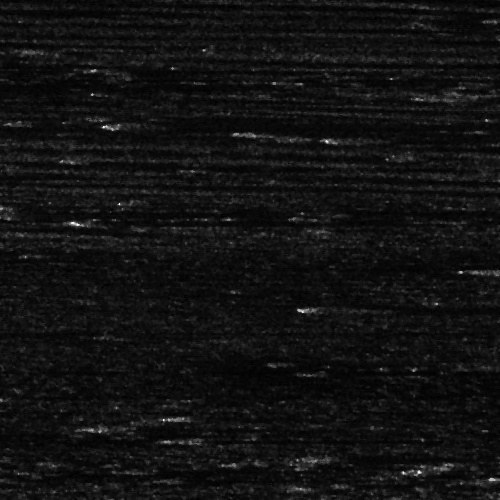object: (35, 215, 150, 226), (127, 434, 232, 445), (89, 119, 172, 128), (0, 207, 58, 216), (137, 412, 200, 419), (315, 138, 346, 141)
shadow: (0, 69, 155, 90), (11, 207, 359, 216), (93, 215, 358, 226), (0, 61, 93, 90), (130, 119, 399, 128), (180, 434, 368, 445), (0, 1, 74, 16), (168, 412, 260, 419), (331, 138, 423, 141), (0, 123, 15, 128)
